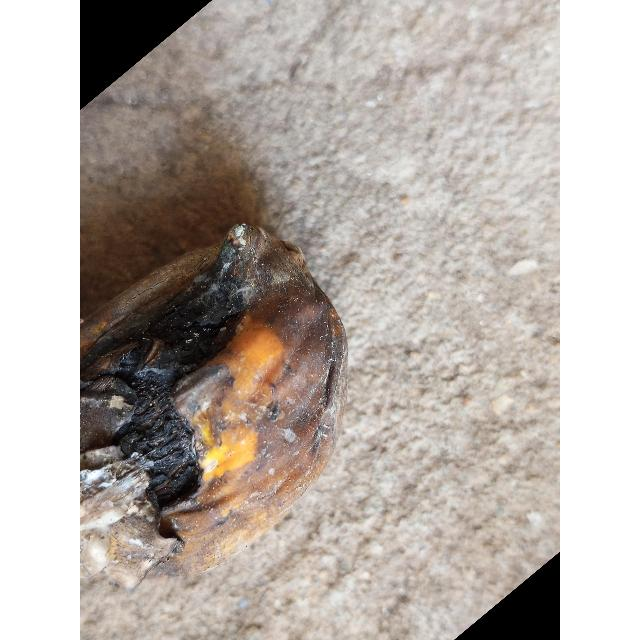damaged: (80, 225, 348, 601)
